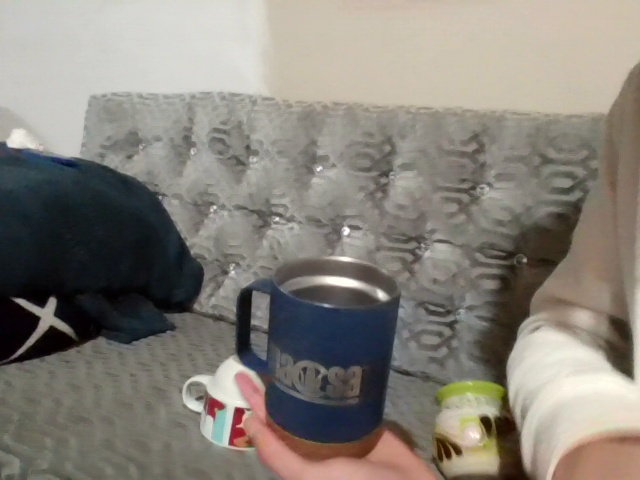botella: (173, 239, 423, 457)
taza: (235, 256, 403, 454), (431, 381, 521, 480), (181, 352, 268, 450)
